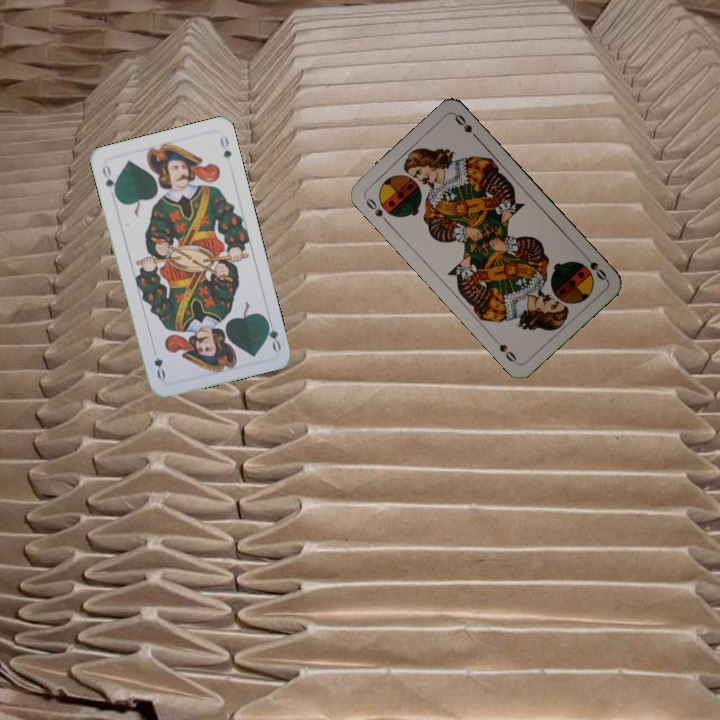GO: (261, 314, 284, 354), (98, 160, 119, 200)
SO: (360, 193, 392, 226), (579, 249, 610, 283)
